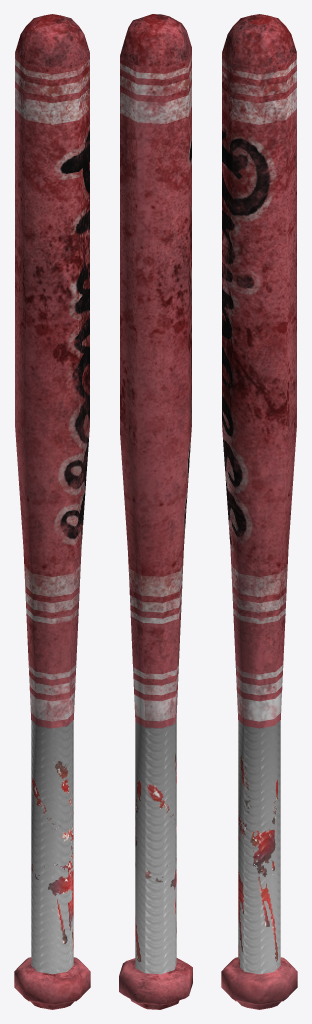
Rendered from BaseballBat_Princess_Wood(Blood).fbx.
3 views of the same model, side by side, from view 1: azimuth 90°, elevation 25°; view 2: azimuth 150°, elevation 25°; view 3: azimuth 270°, elevation 25° (orthographic).
Parts seen in each view (by area): view 1: BaseballBat_Princess_Wood(Blood); view 2: BaseballBat_Princess_Wood(Blood); view 3: BaseballBat_Princess_Wood(Blood).
Boxes of the visible parts, x1,y1,x2,y2 form: BaseballBat_Princess_Wood(Blood): [14, 14, 90, 1009]; BaseballBat_Princess_Wood(Blood): [119, 14, 192, 1009]; BaseballBat_Princess_Wood(Blood): [221, 14, 297, 1009].
Size of the model in its own units: 5.92 by 84.03 by 5.92.
